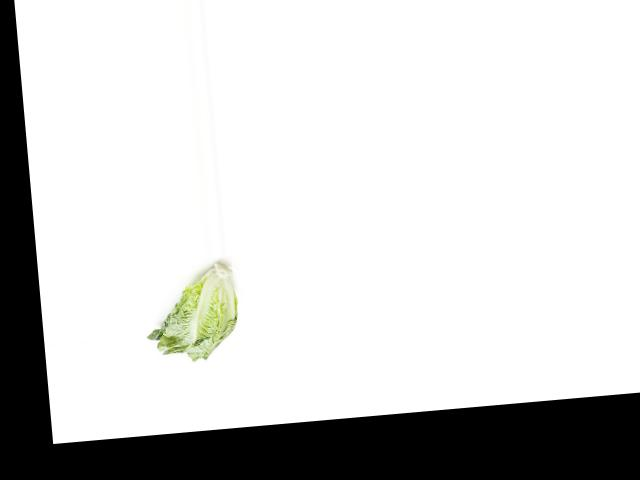lettuce: (142, 263, 245, 369)
